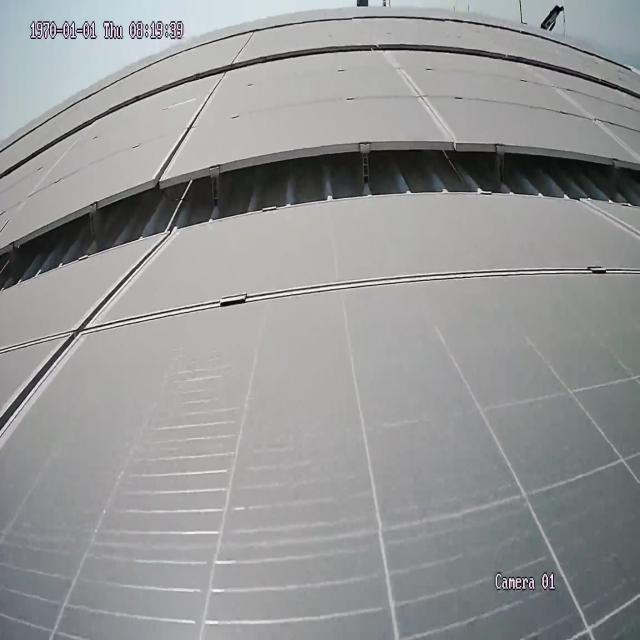interior panel: (0, 242, 634, 442), (153, 79, 230, 172), (379, 54, 463, 138)
outher panel: (0, 140, 637, 292)
